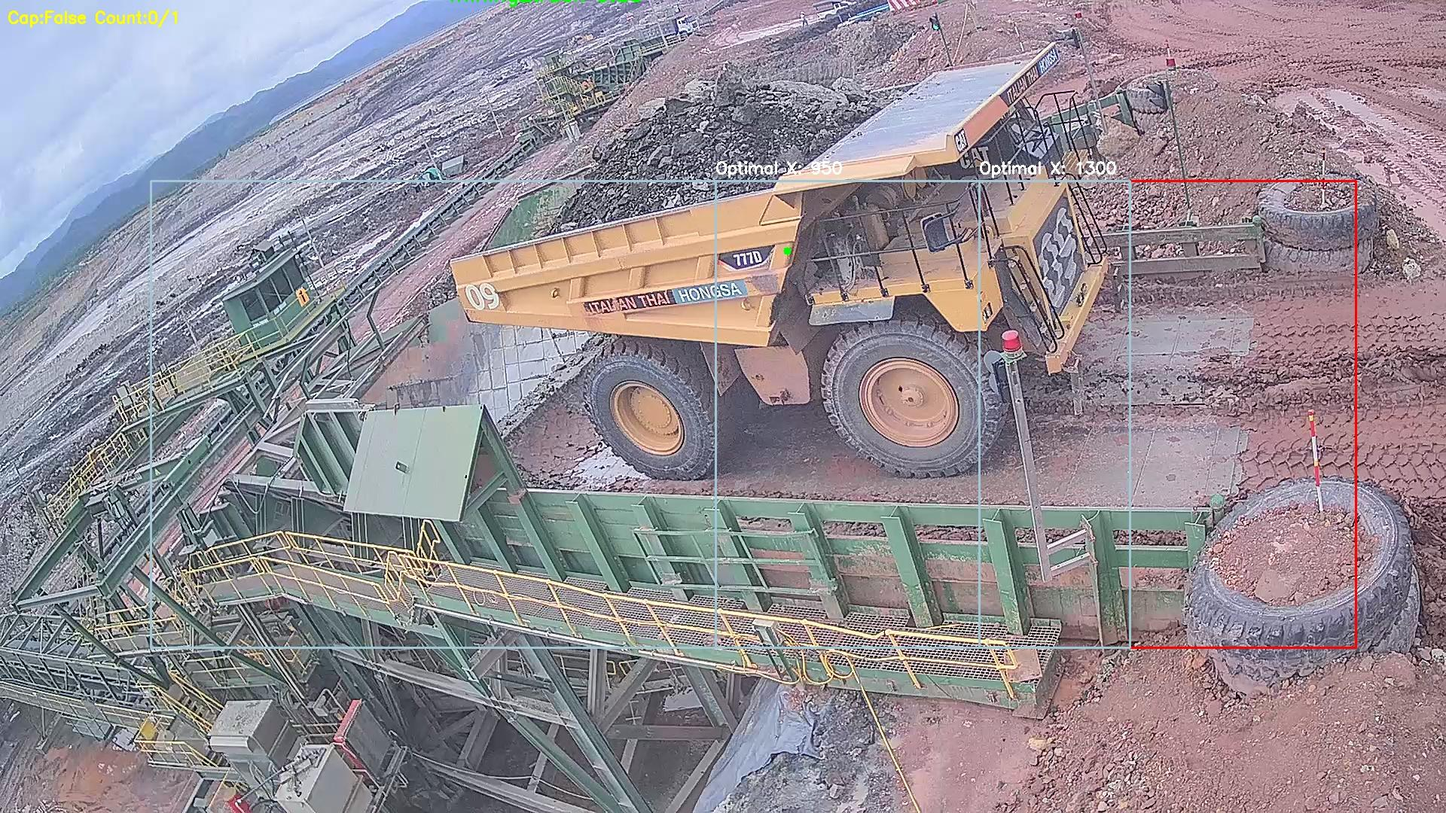company: (573, 273, 759, 319)
full_load: (570, 66, 852, 217)
mining_truck: (435, 39, 1130, 468)
tail_number: (455, 274, 510, 316)
truck_size: (718, 237, 770, 272)
